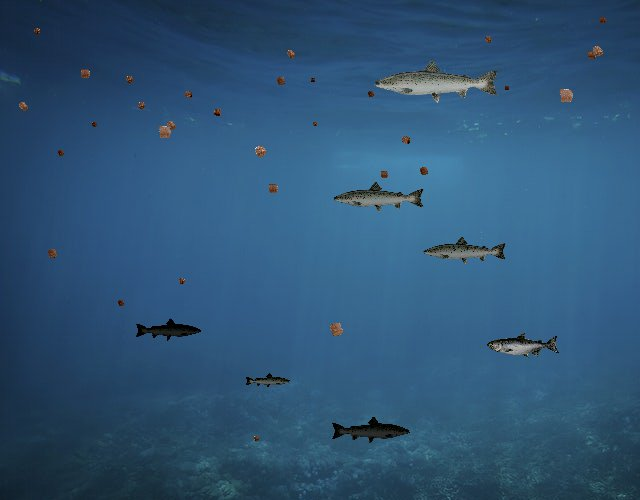Fish: (372, 58, 501, 104), (332, 181, 426, 215), (422, 235, 508, 266), (331, 415, 412, 444), (488, 332, 561, 359), (134, 317, 202, 342), (244, 372, 291, 389)
Pellet: (248, 139, 273, 164), (174, 274, 189, 289), (114, 296, 128, 310), (30, 24, 44, 38), (250, 433, 262, 445)
